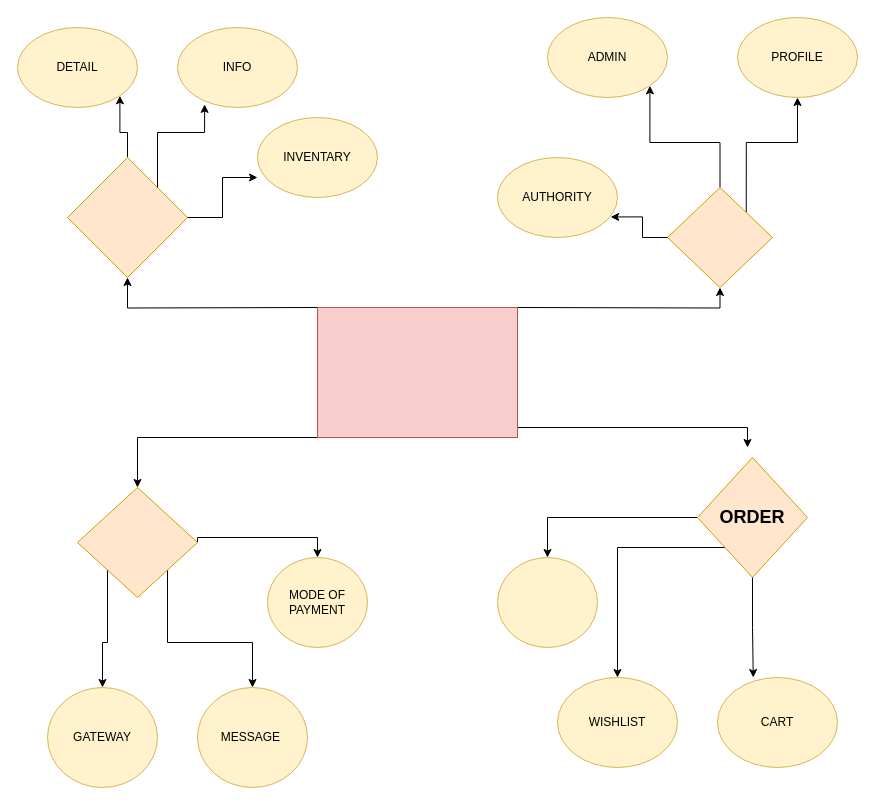
This 875x805 diagram has some shape labels left out. The box of each missing label's shape, as (x1, y1, x2, y2) in pixels:
ECOMMERCE: (316, 306, 518, 438)
HISTORY: (496, 556, 598, 648)
PAYMENT: (76, 486, 198, 598)
PRODUCT: (66, 156, 188, 278)
USER: (666, 186, 772, 288)
